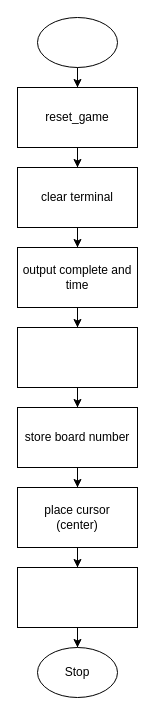
The diagram is 155 pixels wide and 715 high, and some of its shapes have lost their labels. Here are the shapes that lost their labels. From the top down, the centre of each, then its label:
At [77,42]: "Start".
At [77,357]: "print board".
At [77,597]: "unpause game".
